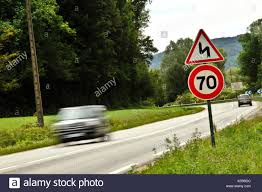Speed_limit_70km: (186, 64, 225, 100)
